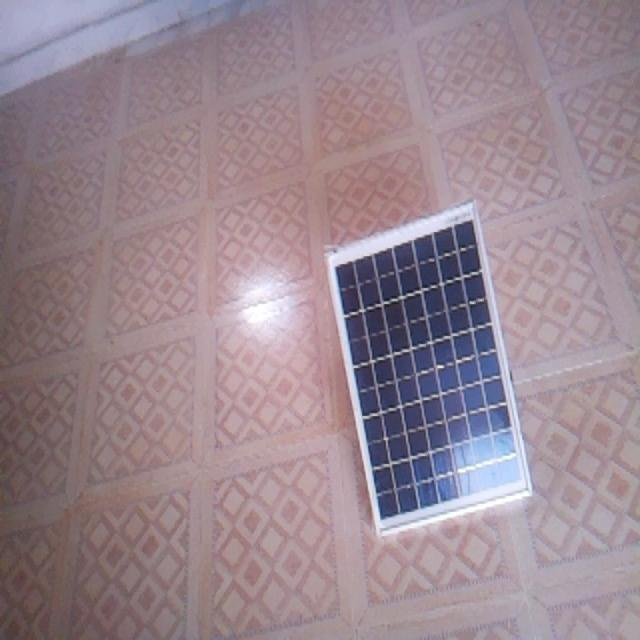Normal Solar Panel: (329, 201, 533, 536)
